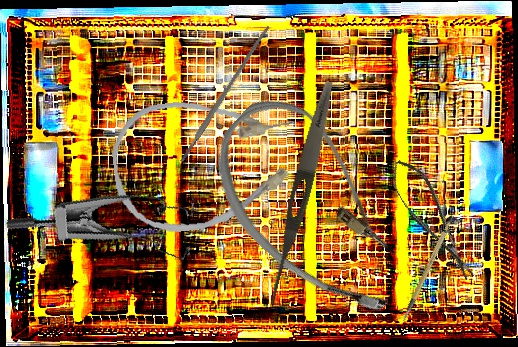Cannula: (184, 79, 447, 336), (106, 88, 305, 239)
Dressing Forceps: (263, 79, 339, 309)
Micro Scissor: (383, 152, 482, 289)
Scalpel Handle: (177, 24, 272, 163), (385, 213, 468, 324)
Speculum: (3, 163, 211, 307)
